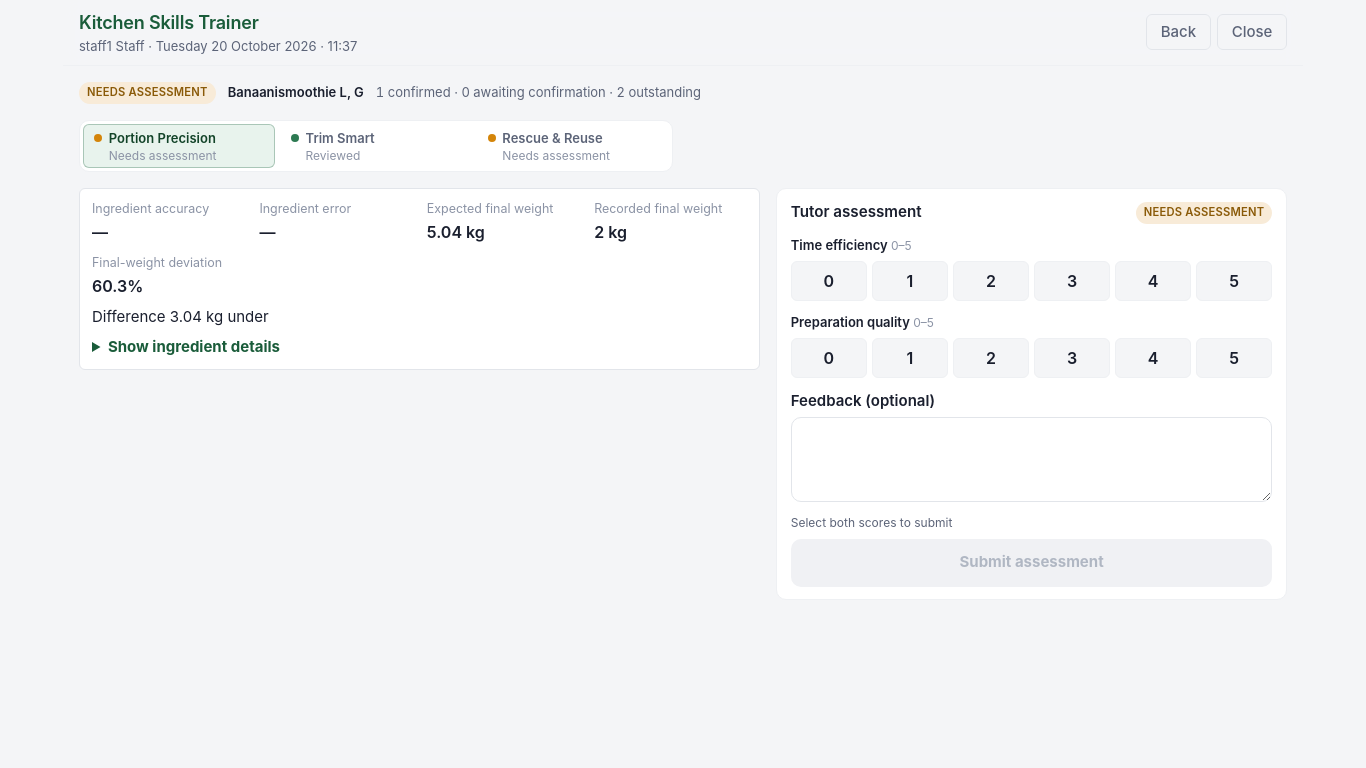
Test: Kitchen Skills trainer three-state assessment status › does not unlock Assess again when the same page receives the unchanged feed again later
This screenshot has width=1366, height=768.
expect the element with test id "kitchen-day-review-portionPrecision-form" is shown: met, box [776,188,1287,600]
Click the radio button labelled "3" below "Time efficiency" at (1072, 281), box [1034,261,1110,301]
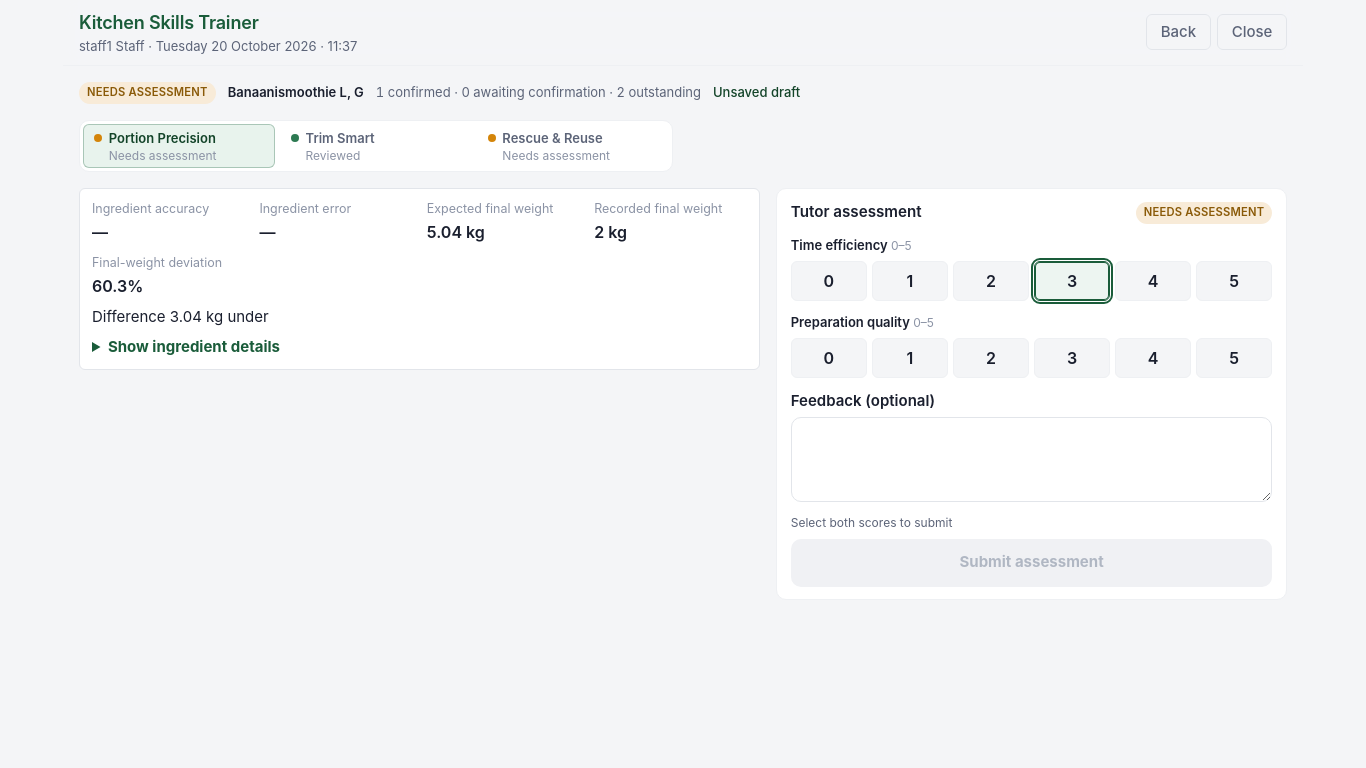
Click the radio button labelled "4" below "Preparation quality" at (1153, 358), box [1115,338,1191,378]
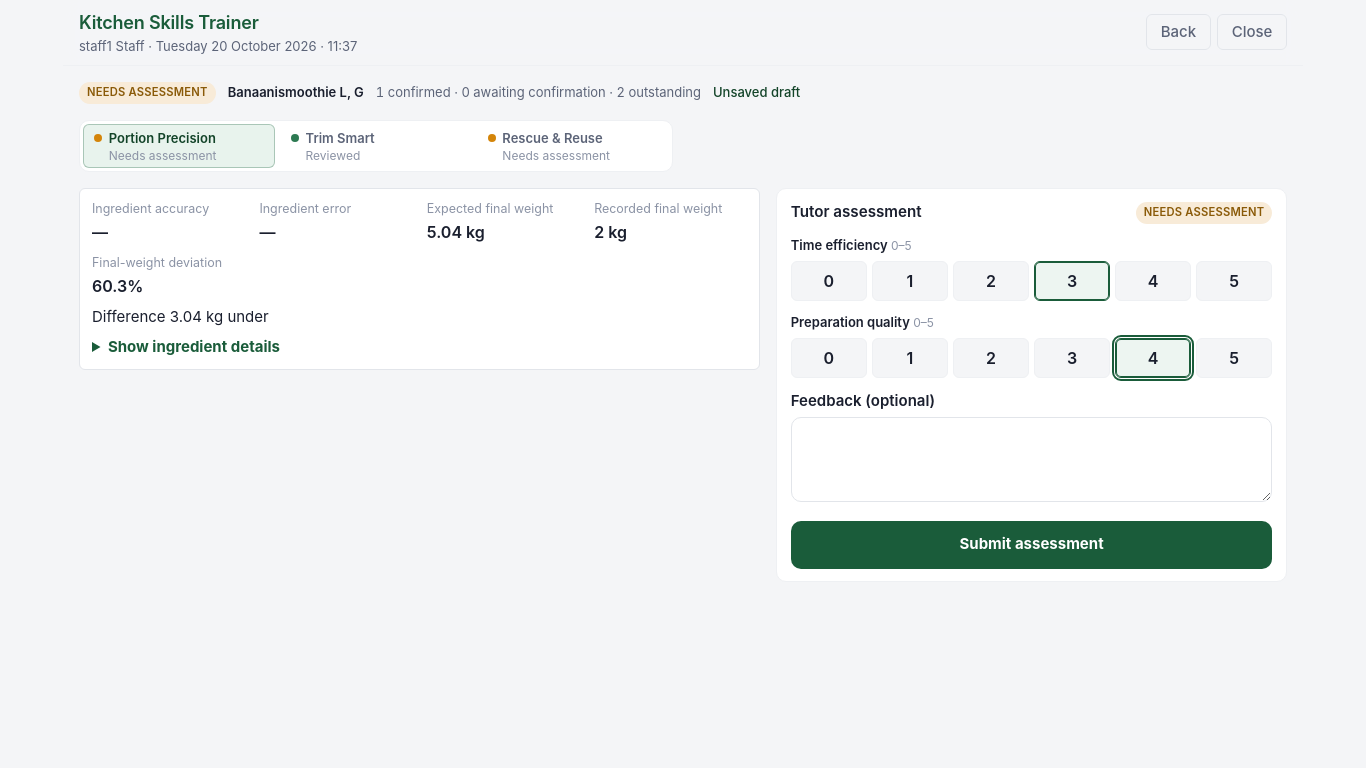
Click the button with test id "kitchen-day-review-portionPrecision-submit" at (1032, 545), box [791,521,1272,569]
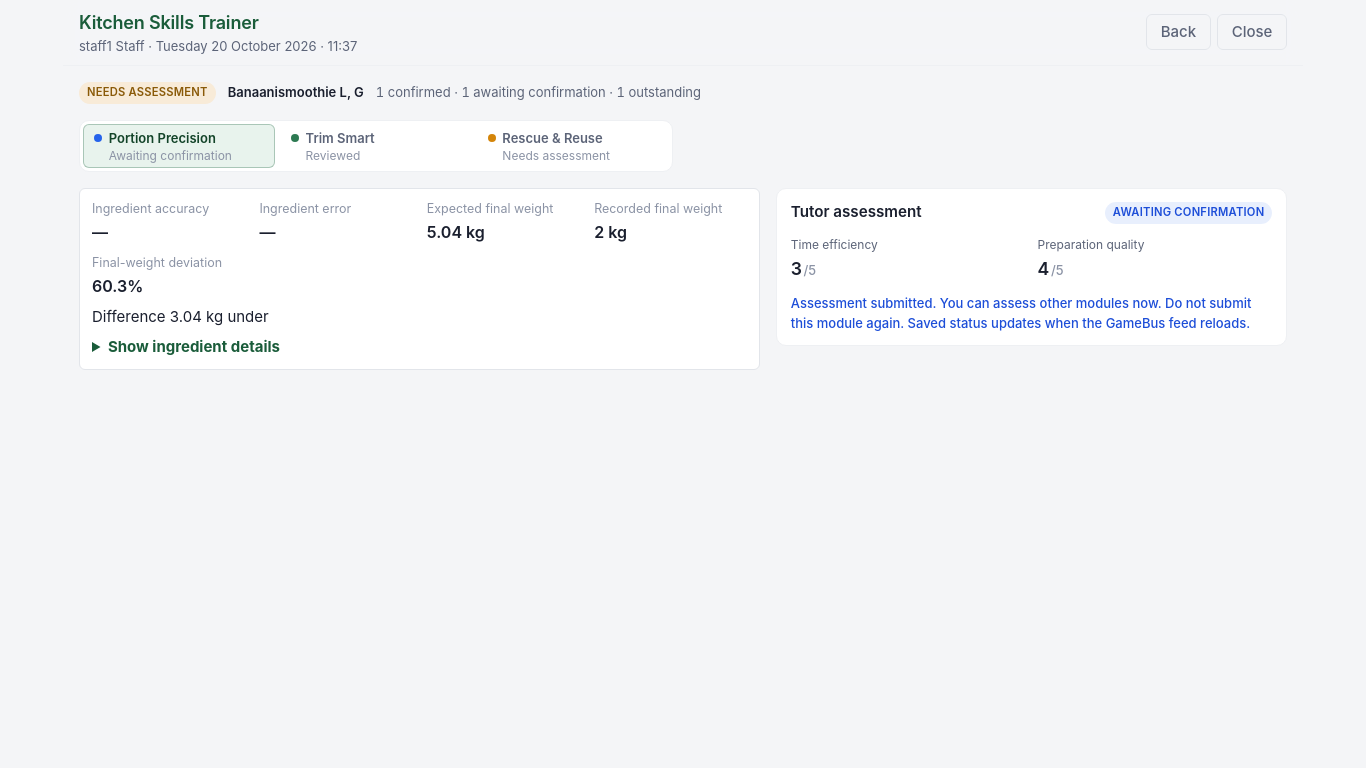
expect the element with test id "kitchen-day-review-portionPrecision-awaiting" is shown: met, box [776,188,1287,346]
